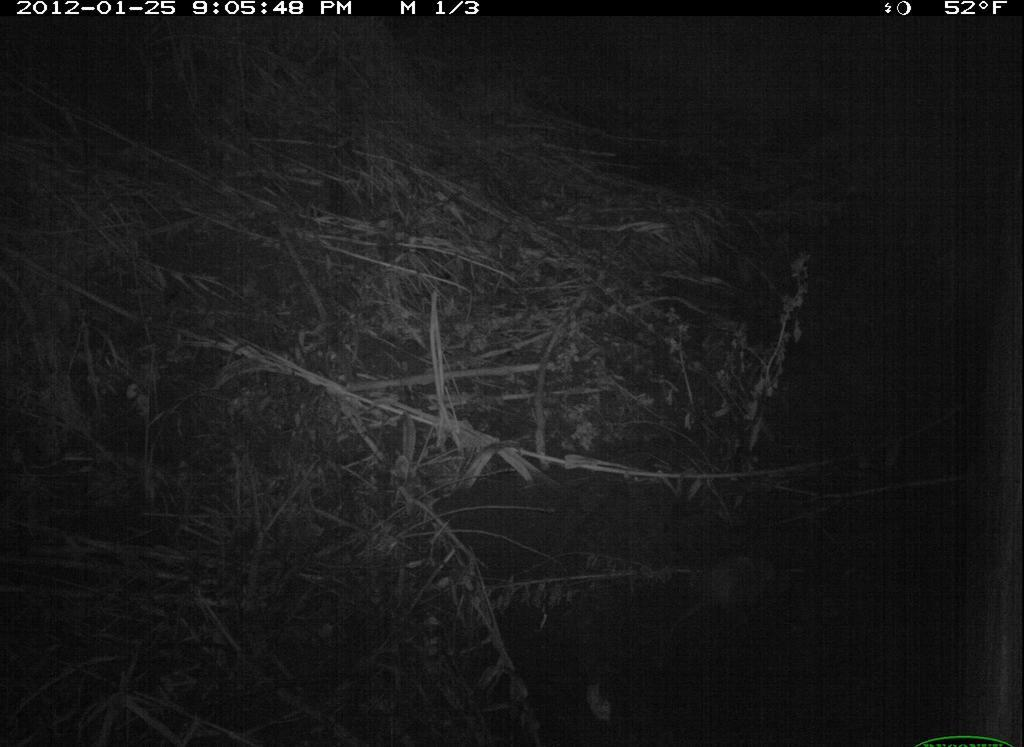opossum: (655, 536, 799, 647)
